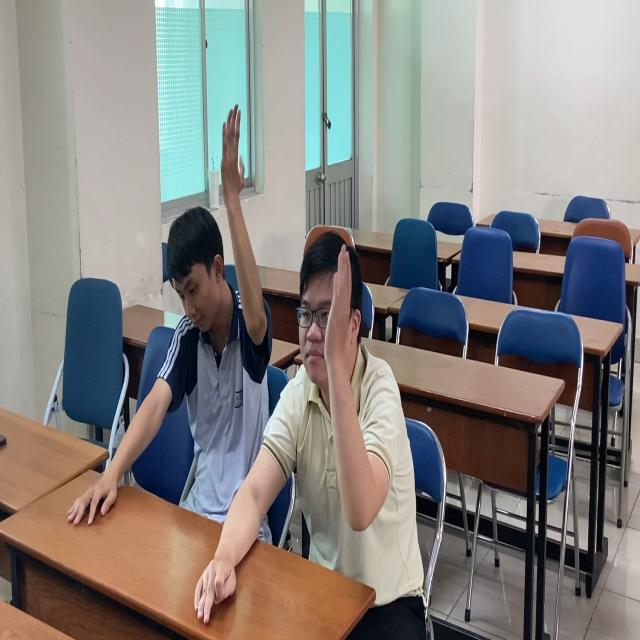raise_hand: (148, 98, 266, 534), (291, 231, 413, 559)
